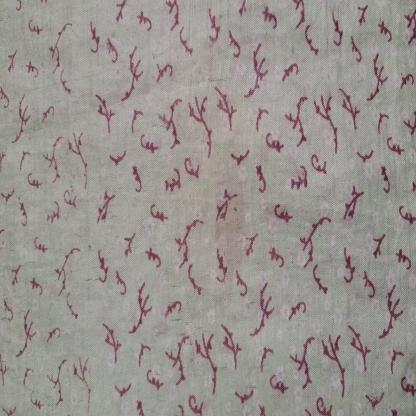spot: (206, 152, 249, 315)
